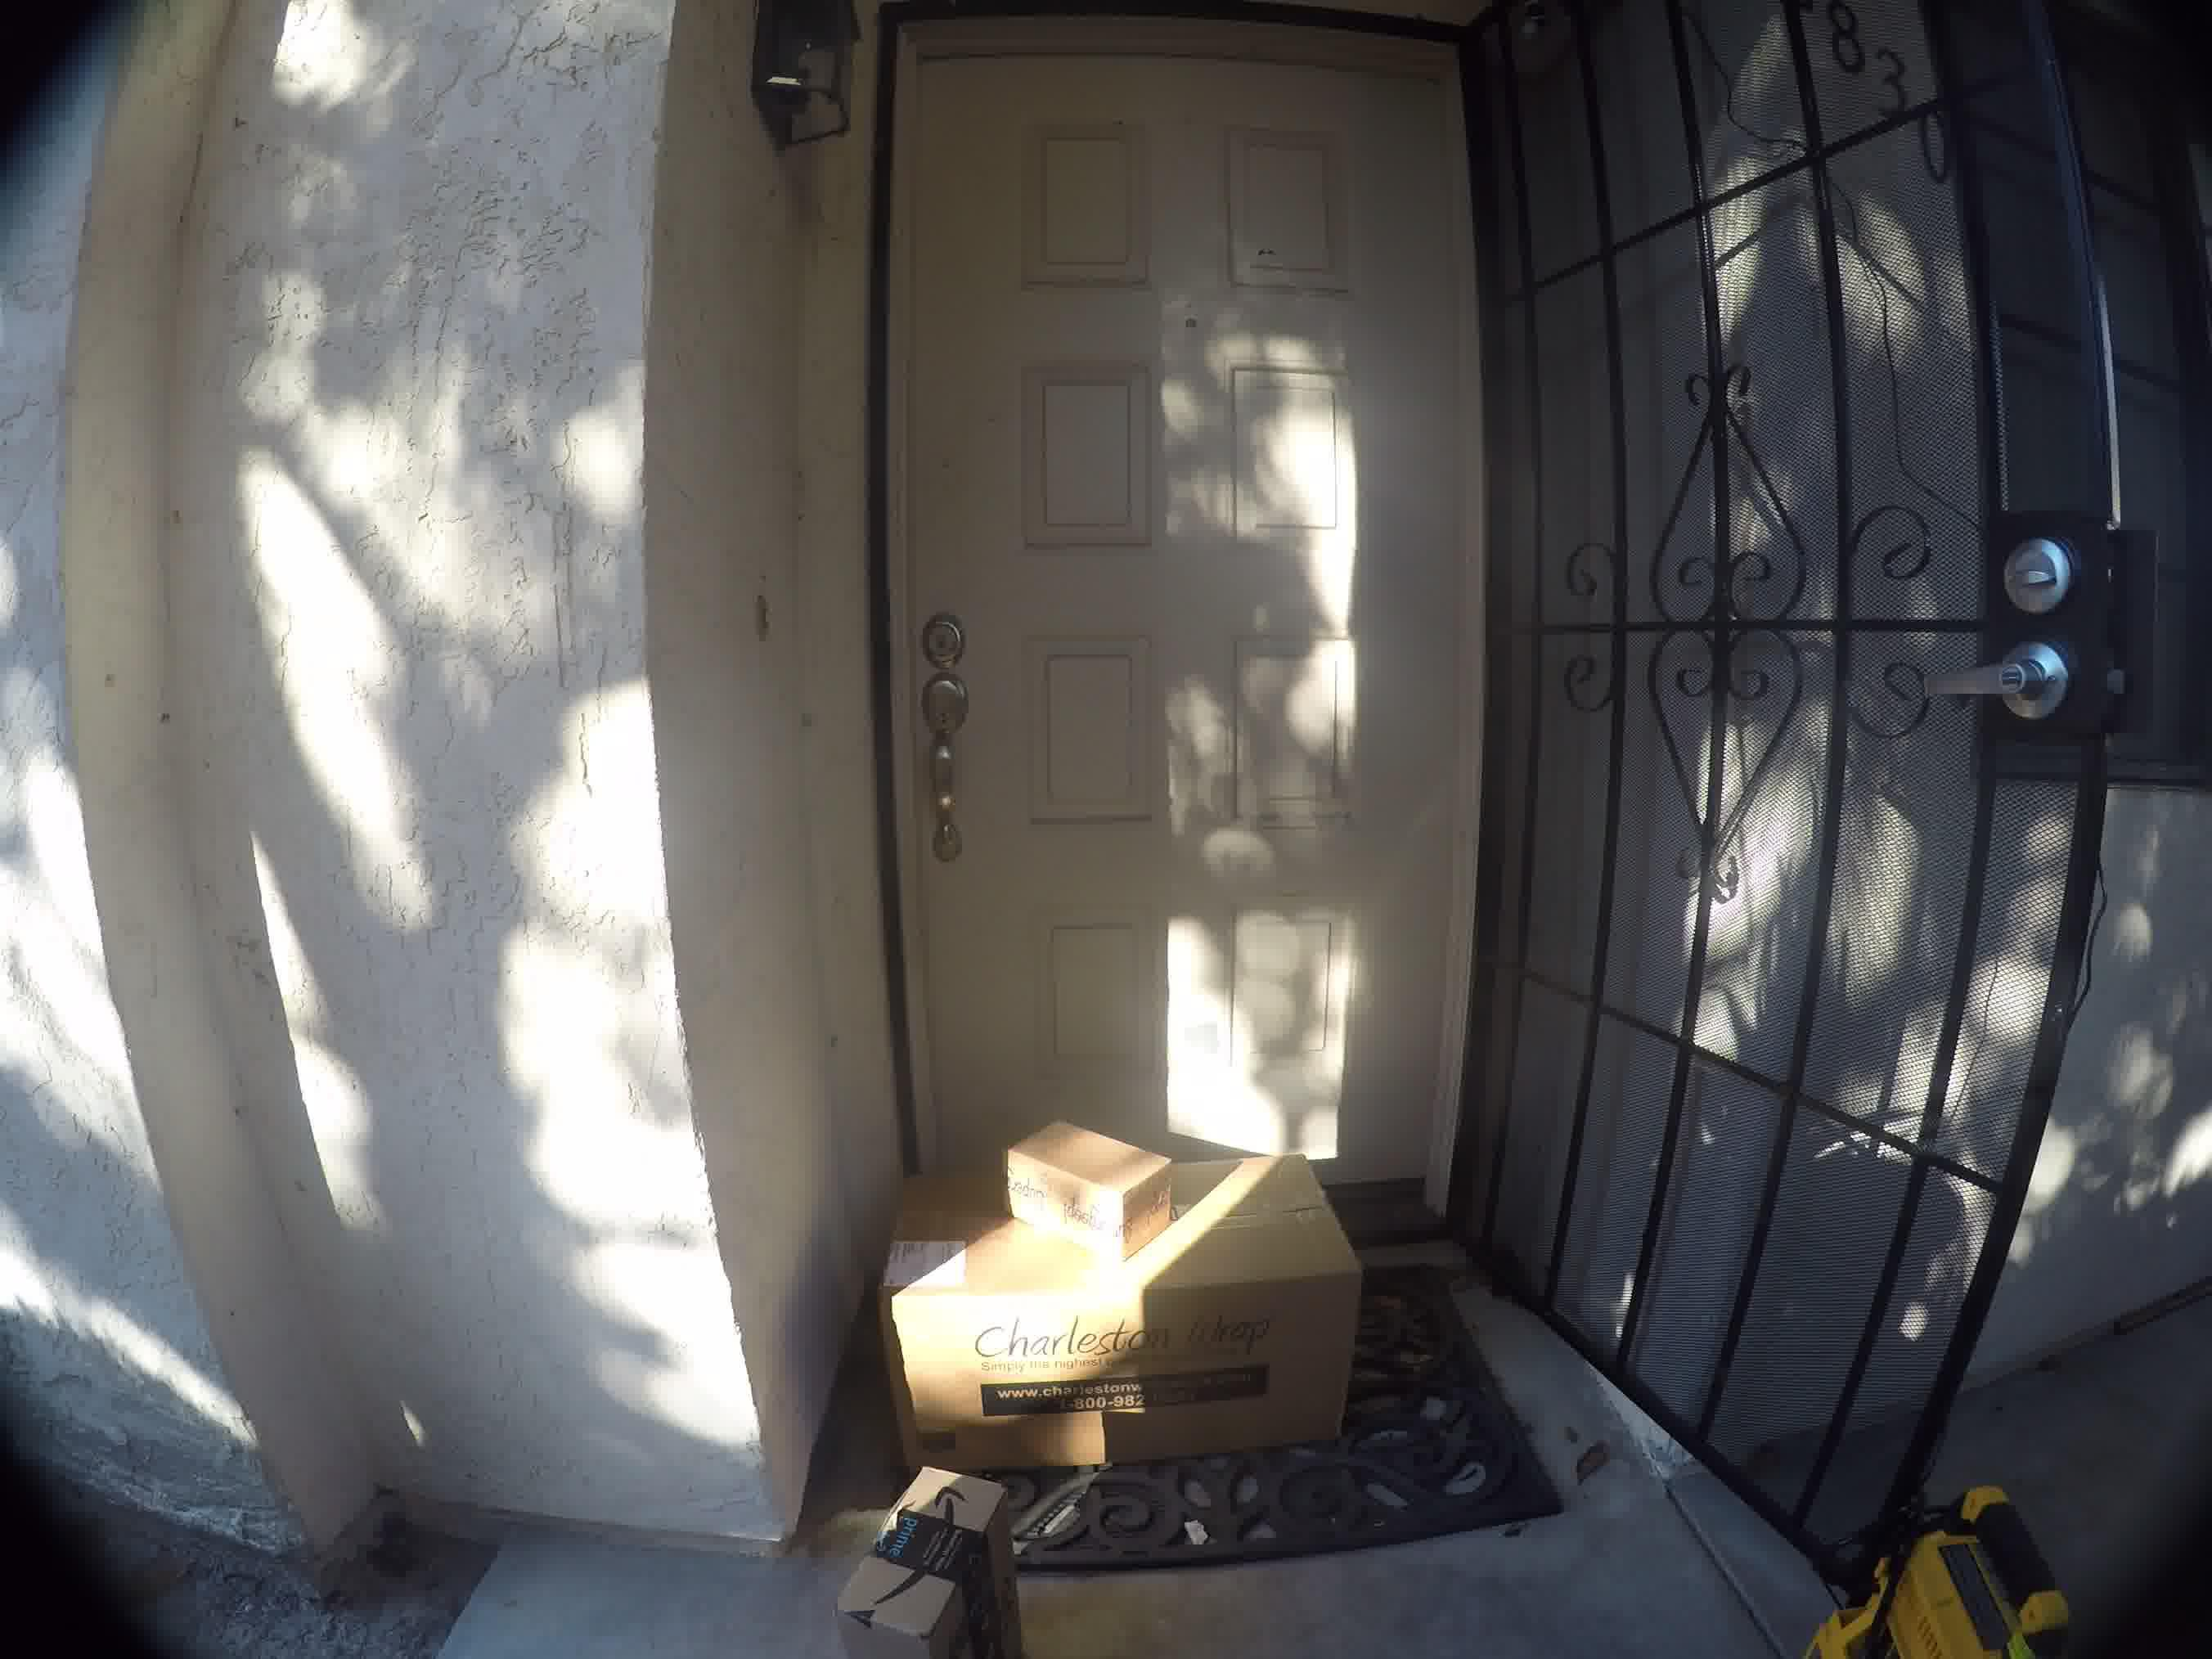box: (885, 1117, 1378, 1459), (836, 1460, 1026, 1652)
